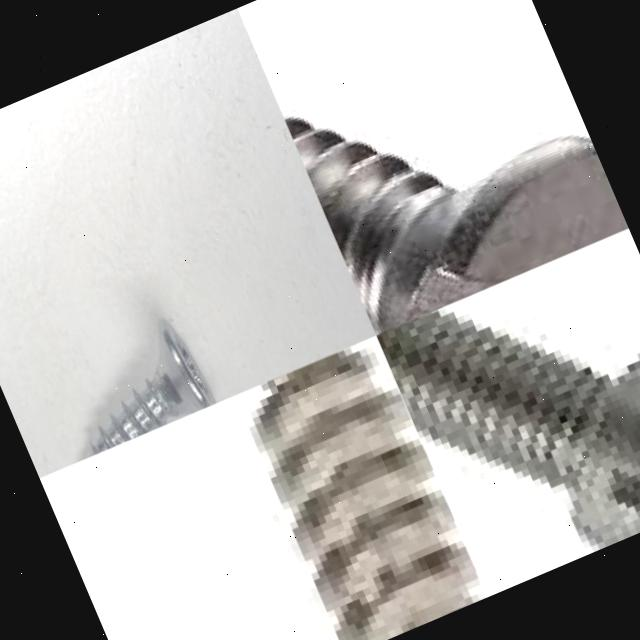Screw: (279, 106, 628, 335), (251, 342, 487, 640), (376, 308, 640, 548), (91, 319, 216, 456)
